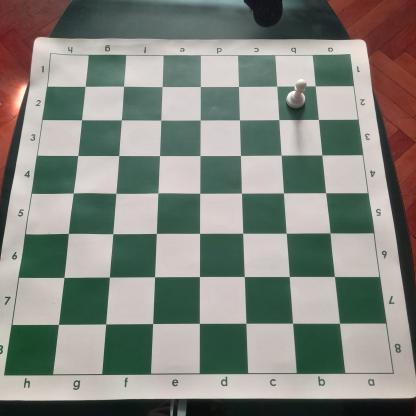white-pawn: (285, 78, 309, 110)
